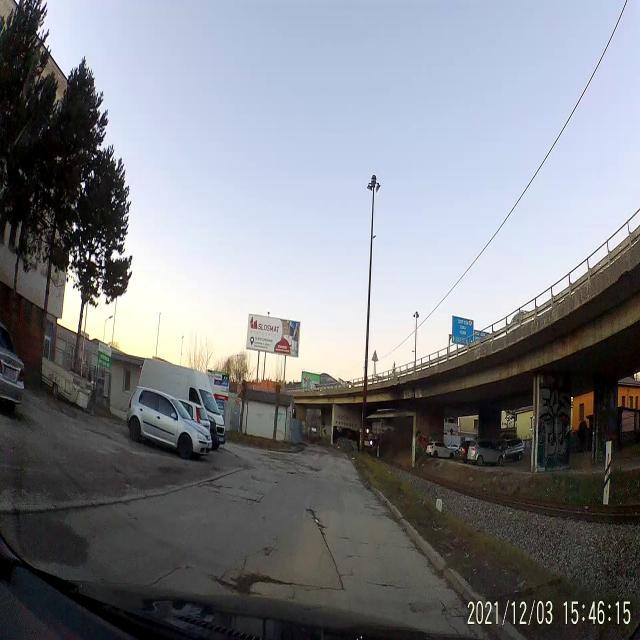Pothole: (218, 568, 290, 596), (304, 503, 328, 538)
